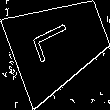L_NE: (34, 20, 84, 68)
